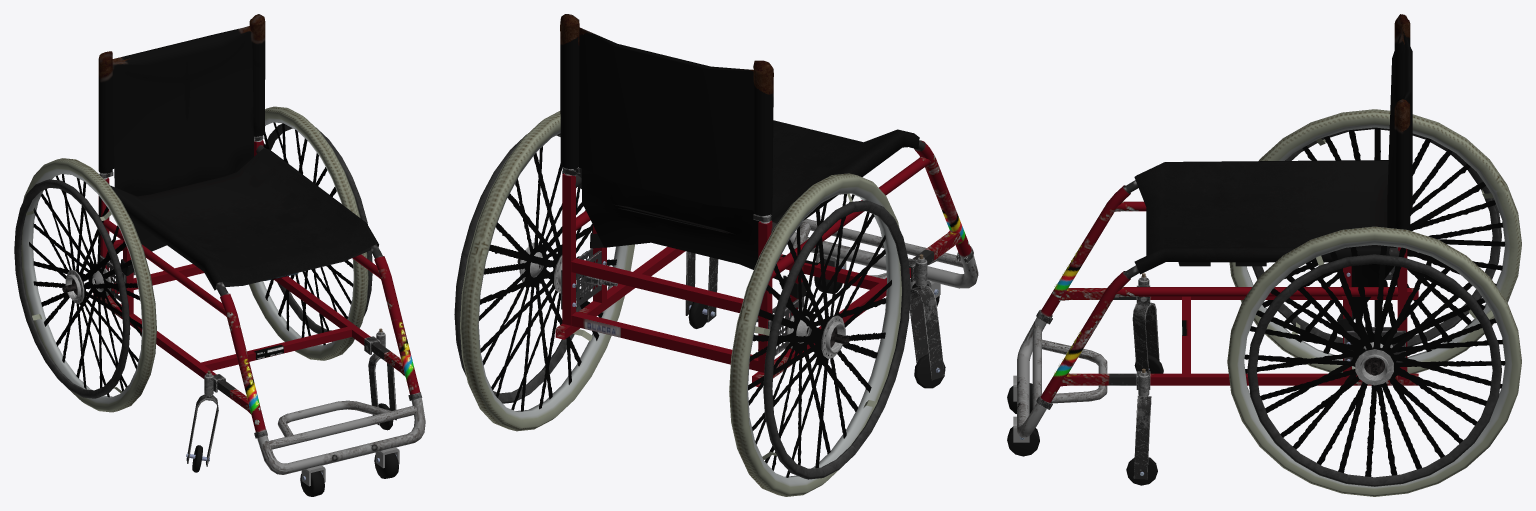
Rendered from 001 Wheel chair.fbx.
The picture shows the model from 3 angles, left to right: view 1: azimuth 30°, elevation 25°; view 2: azimuth 150°, elevation 25°; view 3: azimuth 270°, elevation 25°; orthographic projection. The views are drawn at different scales.
Parts seen in each view (by area): view 1: pPlane19, pCylinder37, pTorus7, polySurface3, pTorus6, pCylinder123, pTorus3, pCylinder115, pCylinder133, pCube1, pCube26, pCylinder8 (+10 smaller); view 2: pCylinder123, pTorus7, pTorus6, pCylinder37, pPlane19, pTorus3, pCylinder115, pCylinder133, pCylinder26, pCylinder99, polySurface3, pCube43 (+13 smaller); view 3: pPlane19, pTorus6, pTorus7, pCylinder99, pCylinder26, pTorus2, polySurface3, pCylinder123, pCube1, pCylinder115, pCylinder133, pCylinder37 (+11 smaller).
Part boxes in pixels (x1=…): pPlane19: x1=110, y1=148, x2=378, y2=290; pCylinder37: x1=112, y1=30, x2=253, y2=251; pTorus7: x1=21, y1=158, x2=156, y2=412; polySurface3: x1=215, y1=145, x2=425, y2=474; pTorus6: x1=249, y1=106, x2=368, y2=360; pCylinder123: x1=98, y1=14, x2=265, y2=173; pTorus3: x1=14, y1=179, x2=130, y2=398; pCylinder115: x1=29, y1=174, x2=142, y2=397; pCylinder133: x1=33, y1=175, x2=141, y2=391; pCube1: x1=273, y1=276, x2=405, y2=376; pCube26: x1=200, y1=326, x2=352, y2=370; pCylinder8: x1=269, y1=406, x2=416, y2=449; pCylinder123: x1=560, y1=14, x2=773, y2=215; pTorus7: x1=729, y1=173, x2=901, y2=496; pTorus6: x1=460, y1=111, x2=634, y2=431; pCylinder37: x1=581, y1=169, x2=785, y2=282; pPlane19: x1=576, y1=120, x2=919, y2=233; pTorus3: x1=763, y1=200, x2=910, y2=479; pCylinder115: x1=748, y1=194, x2=891, y2=477; pCylinder133: x1=748, y1=194, x2=886, y2=470; pCylinder26: x1=480, y1=152, x2=613, y2=410; pCylinder99: x1=479, y1=146, x2=616, y2=411; polySurface3: x1=575, y1=140, x2=978, y2=288; pCube43: x1=571, y1=258, x2=758, y2=317; pPlane19: x1=1134, y1=160, x2=1390, y2=274; pTorus6: x1=1227, y1=226, x2=1521, y2=496; pTorus7: x1=1229, y1=109, x2=1521, y2=373; pCylinder99: x1=1244, y1=245, x2=1505, y2=476; pCylinder26: x1=1245, y1=247, x2=1502, y2=475; pTorus2: x1=1247, y1=254, x2=1501, y2=486; polySurface3: x1=1017, y1=180, x2=1399, y2=438; pCylinder123: x1=1394, y1=14, x2=1412, y2=230; pCube1: x1=1059, y1=373, x2=1418, y2=386; pCylinder115: x1=1283, y1=127, x2=1505, y2=353; pCylinder133: x1=1262, y1=129, x2=1502, y2=342; pCylinder37: x1=1351, y1=33, x2=1405, y2=319.
Size of the model in its own units: 9.41 by 11.63 by 14.29.
1 material, 1 textured.
